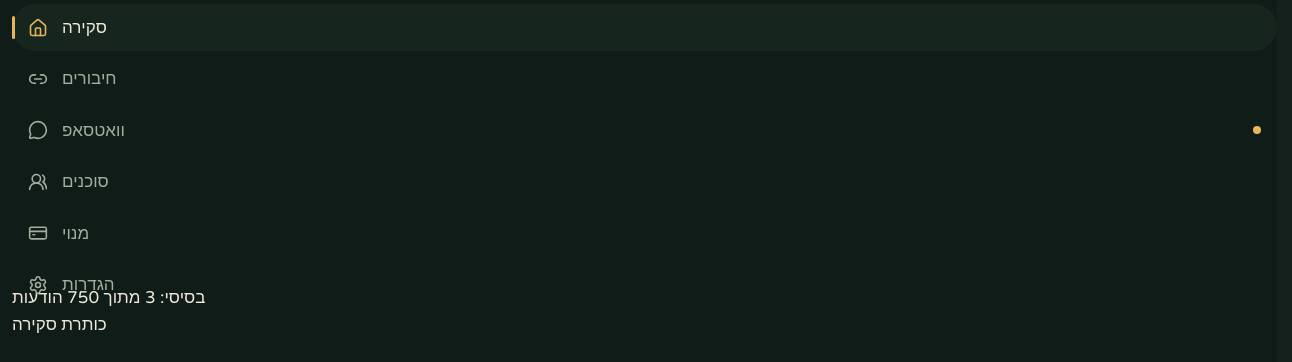
Test: the area navigation › a click switches at once, pushes the address, moves focus to the area's heading; back walks the areas
Later steps or results of the test are not shown.
Expected: the element "כותרת סקירה" is shown, [12,314,107,335]
What coordinates should you click on to do the following:
click the link "חיבורים"
I would click on:
 (72, 79)
Its box is [28,68,116,89].
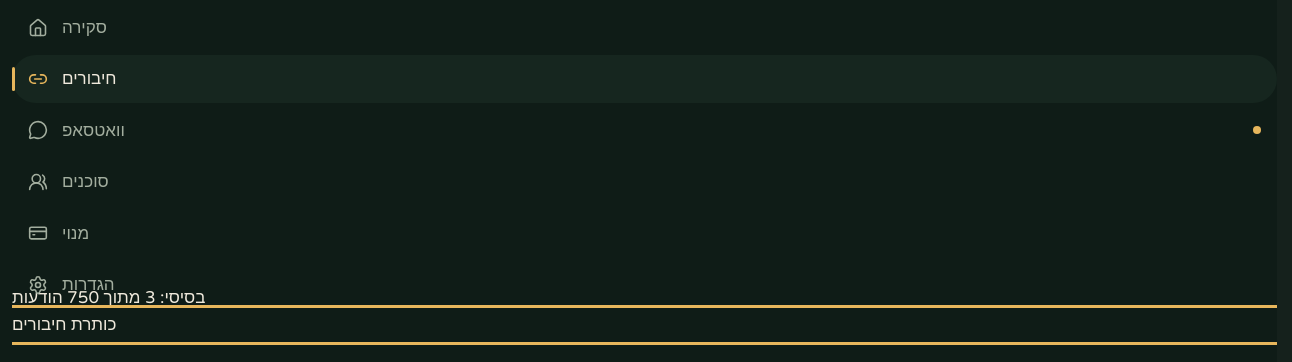
Result: the element "כותרת חיבורים" is shown at [12,314,116,335]
Result: the heading "כותרת סקירה" is gone
